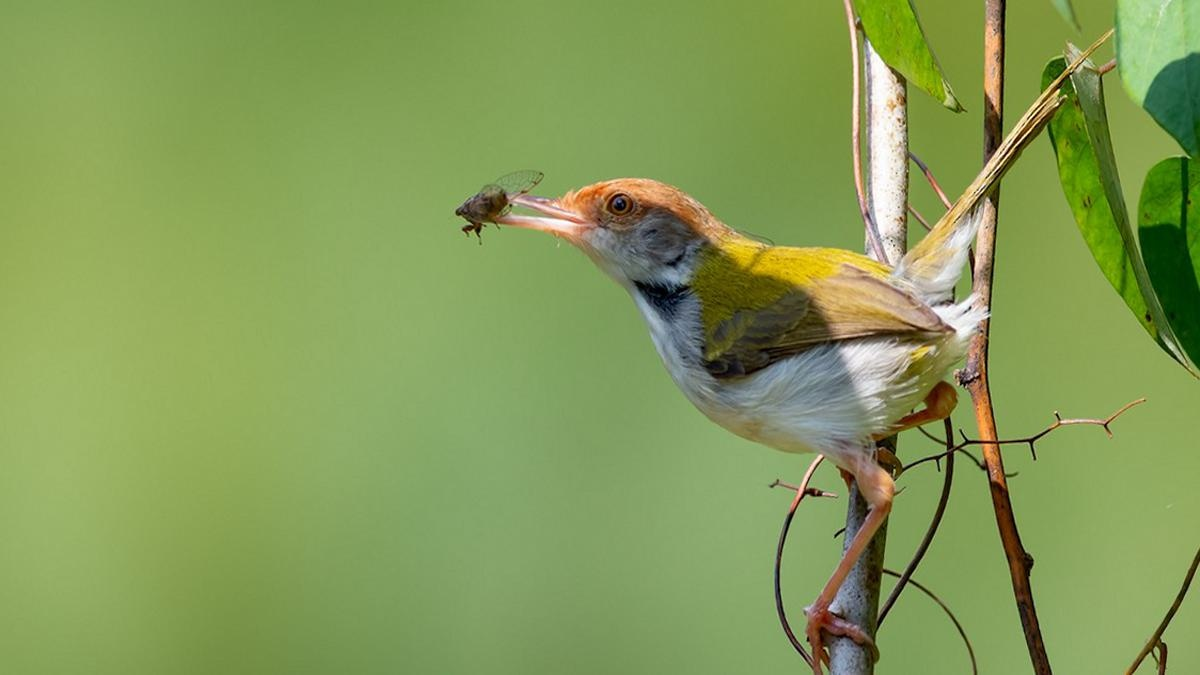tailorbird: (426, 61, 1088, 582)
